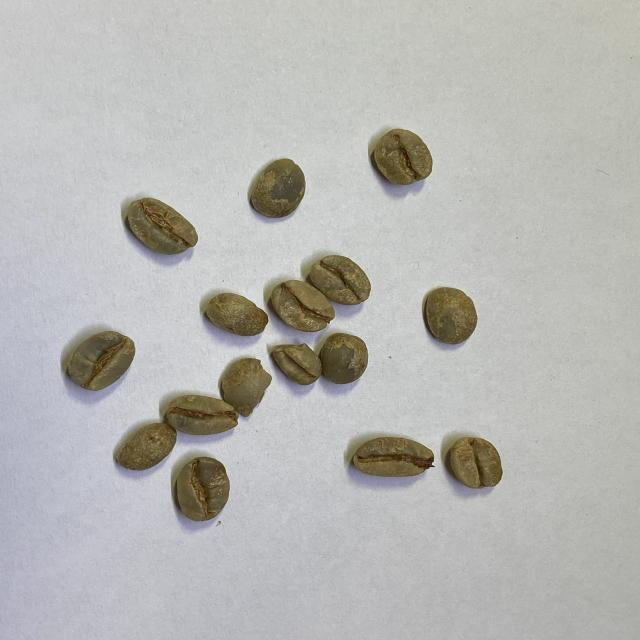bad: (218, 357, 272, 419), (266, 344, 322, 386)
good: (126, 196, 198, 255), (66, 330, 136, 390), (371, 127, 435, 187), (247, 156, 307, 220), (352, 435, 434, 480), (176, 456, 231, 522), (271, 280, 336, 333), (308, 255, 372, 307), (424, 286, 478, 346), (114, 421, 177, 472), (447, 435, 503, 492), (166, 394, 239, 436), (206, 292, 268, 337), (320, 333, 368, 386)
